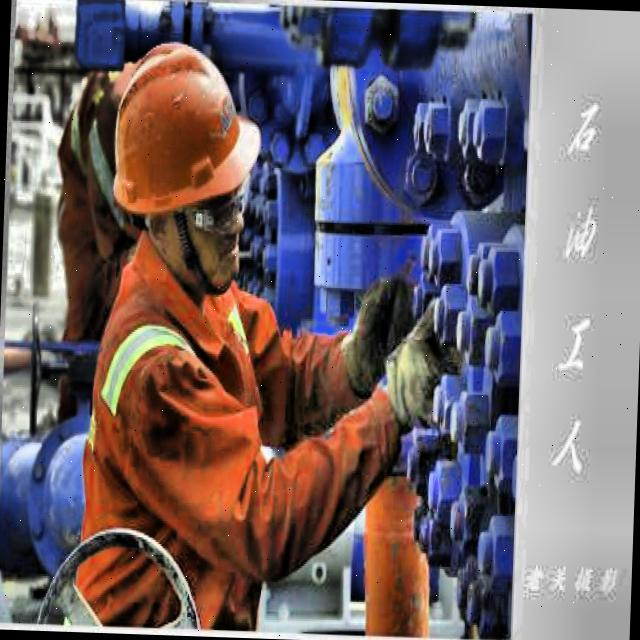helmet: (85, 20, 270, 302)
